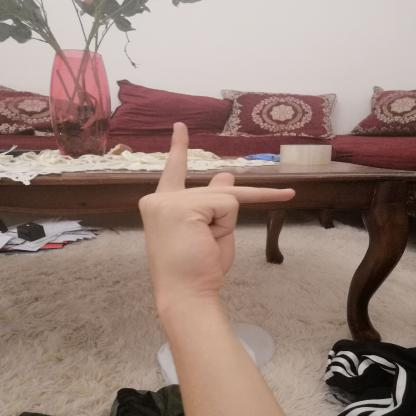DHAA: (126, 112, 308, 310)
